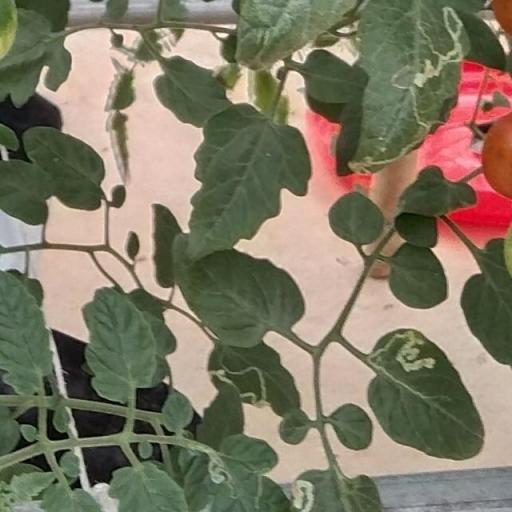Healthy: (184, 102, 316, 261), (168, 229, 306, 353), (84, 284, 161, 406), (0, 268, 56, 396), (23, 125, 105, 211), (152, 54, 236, 128), (388, 241, 448, 310), (0, 158, 54, 226), (327, 191, 385, 246), (302, 49, 354, 104), (330, 403, 374, 451)
Leaf_Miner: (347, 0, 475, 179), (365, 326, 486, 464), (206, 336, 308, 421), (197, 430, 290, 512), (291, 466, 385, 512)
